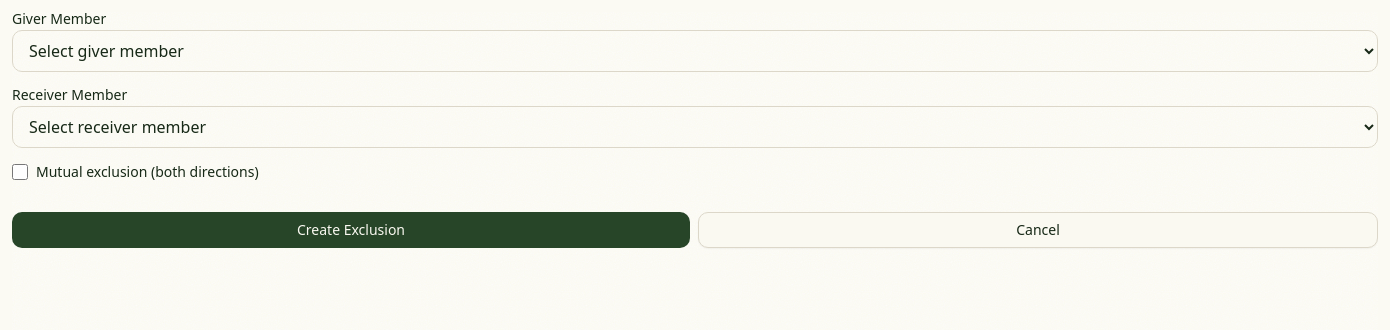
ExclusionForm › validates that receiver is selected
Select "Alice" in the dropdown labelled "Giver Member" at {"x": 695, "y": 51}, box [12,30,1378,72]
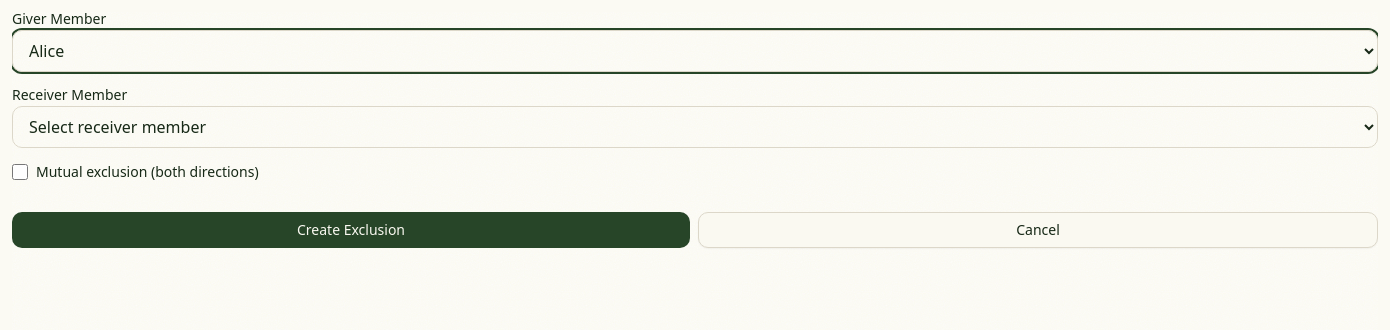
Click the button "Create Exclusion" at {"x": 351, "y": 230}, box [12,212,690,248]
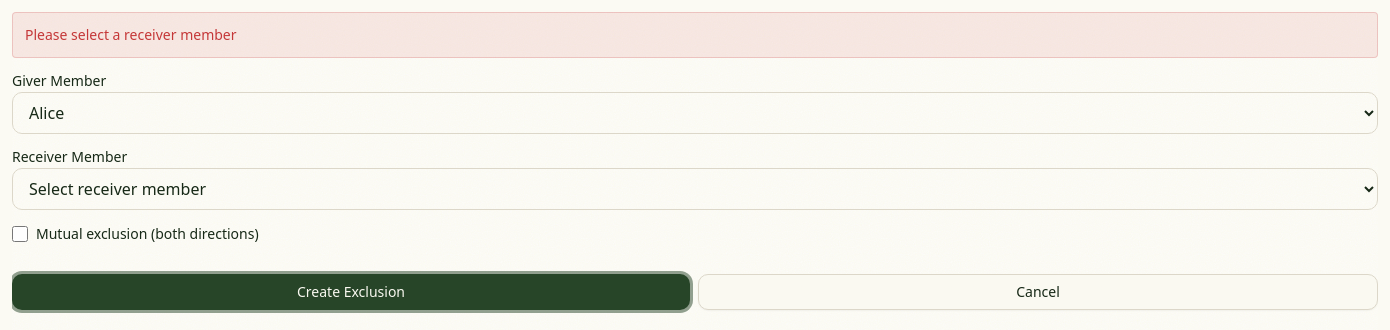
Now the text "Please select a receiver member" is shown, box [12,12,1378,58]
